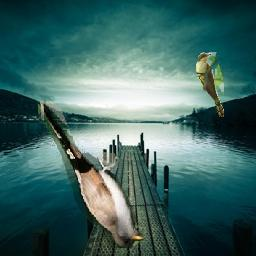Cuckoo: (38, 102, 144, 249), (196, 53, 224, 118)
